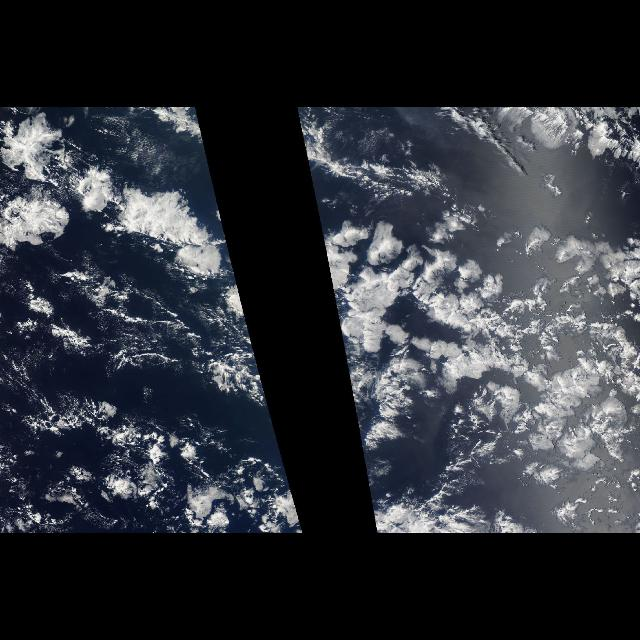Fish: (300, 125, 466, 202)
Flower: (314, 206, 638, 478), (3, 110, 247, 320)
Gravel: (26, 393, 260, 531)
